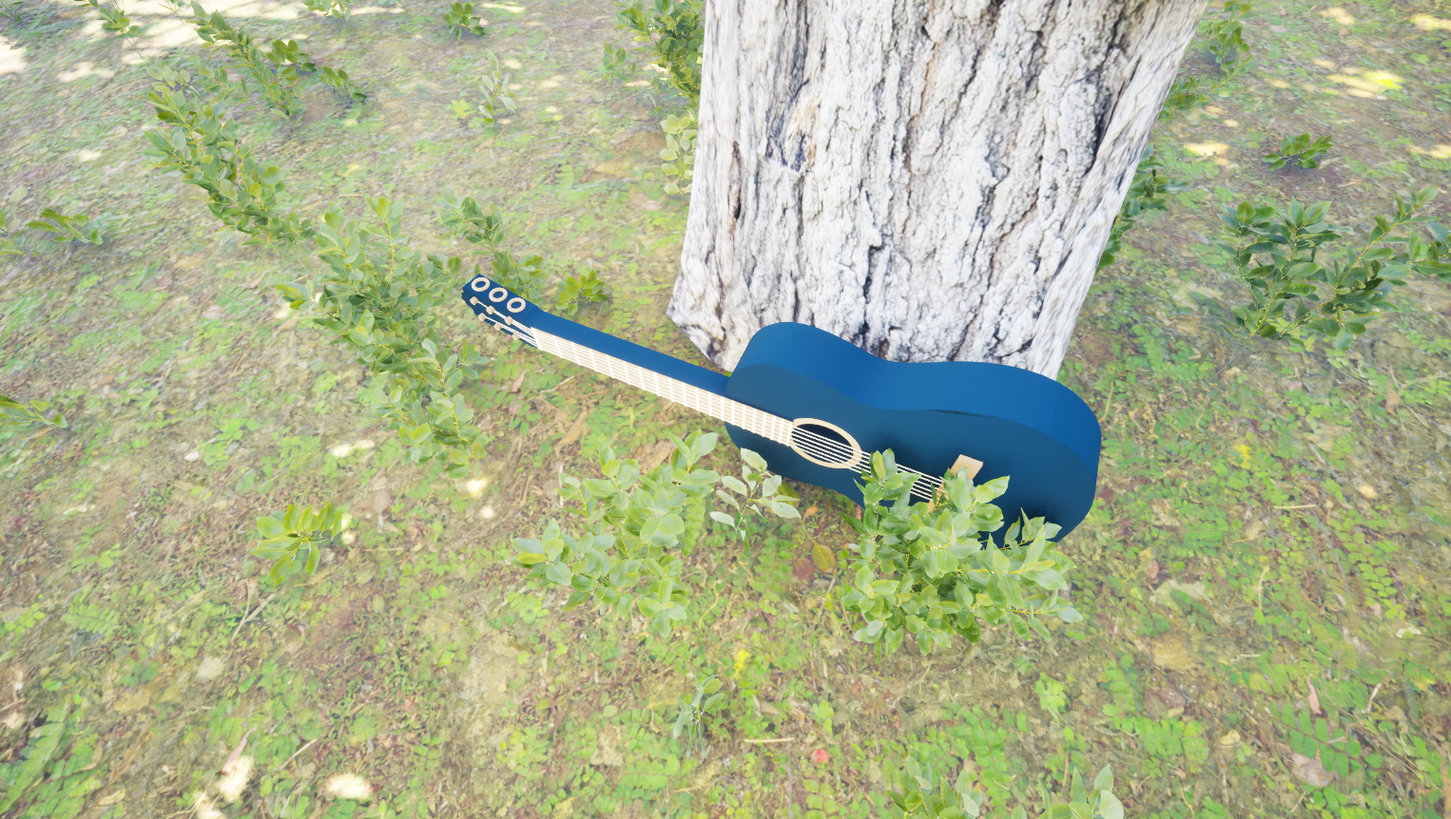Guitar: (403, 184, 1154, 584)
